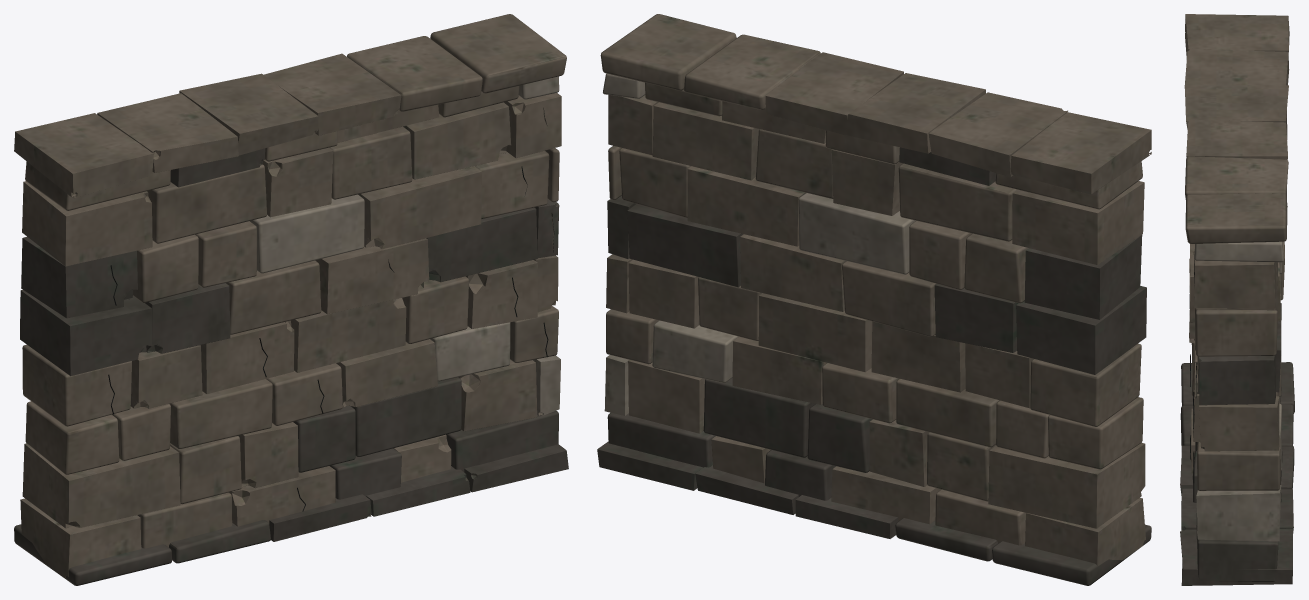
Rendered from wall.glb.
3 renders of one model, left to right at view 1: azimuth 30°, elevation 25°; view 2: azimuth 150°, elevation 25°; view 3: azimuth 270°, elevation 25°, orthographic. The views are drawn at different scales.
Visible parts, largest first — view 1: Body_Baked.004; view 2: Body_Baked.004; view 3: Body_Baked.004.
Part boxes in pixels (x1,y1,x2,y2): Body_Baked.004: (14,14,568,585); Body_Baked.004: (597,14,1151,585); Body_Baked.004: (1180,14,1294,585).
Bounding box in the file's own units: 4.21 × 3.38 × 0.9685.
1 material, 1 textured.
